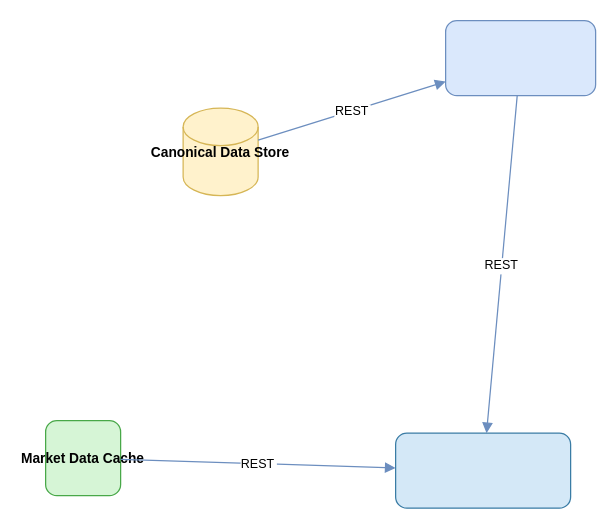
The diagram is 616 pixels wide and 529 high, and some of its shapes have lost their labels. Each missing label, with the centre of its shape:
"Authentication Service" goes at point 520,57.
"Customer Data Pipeline" goes at point 482,470.
